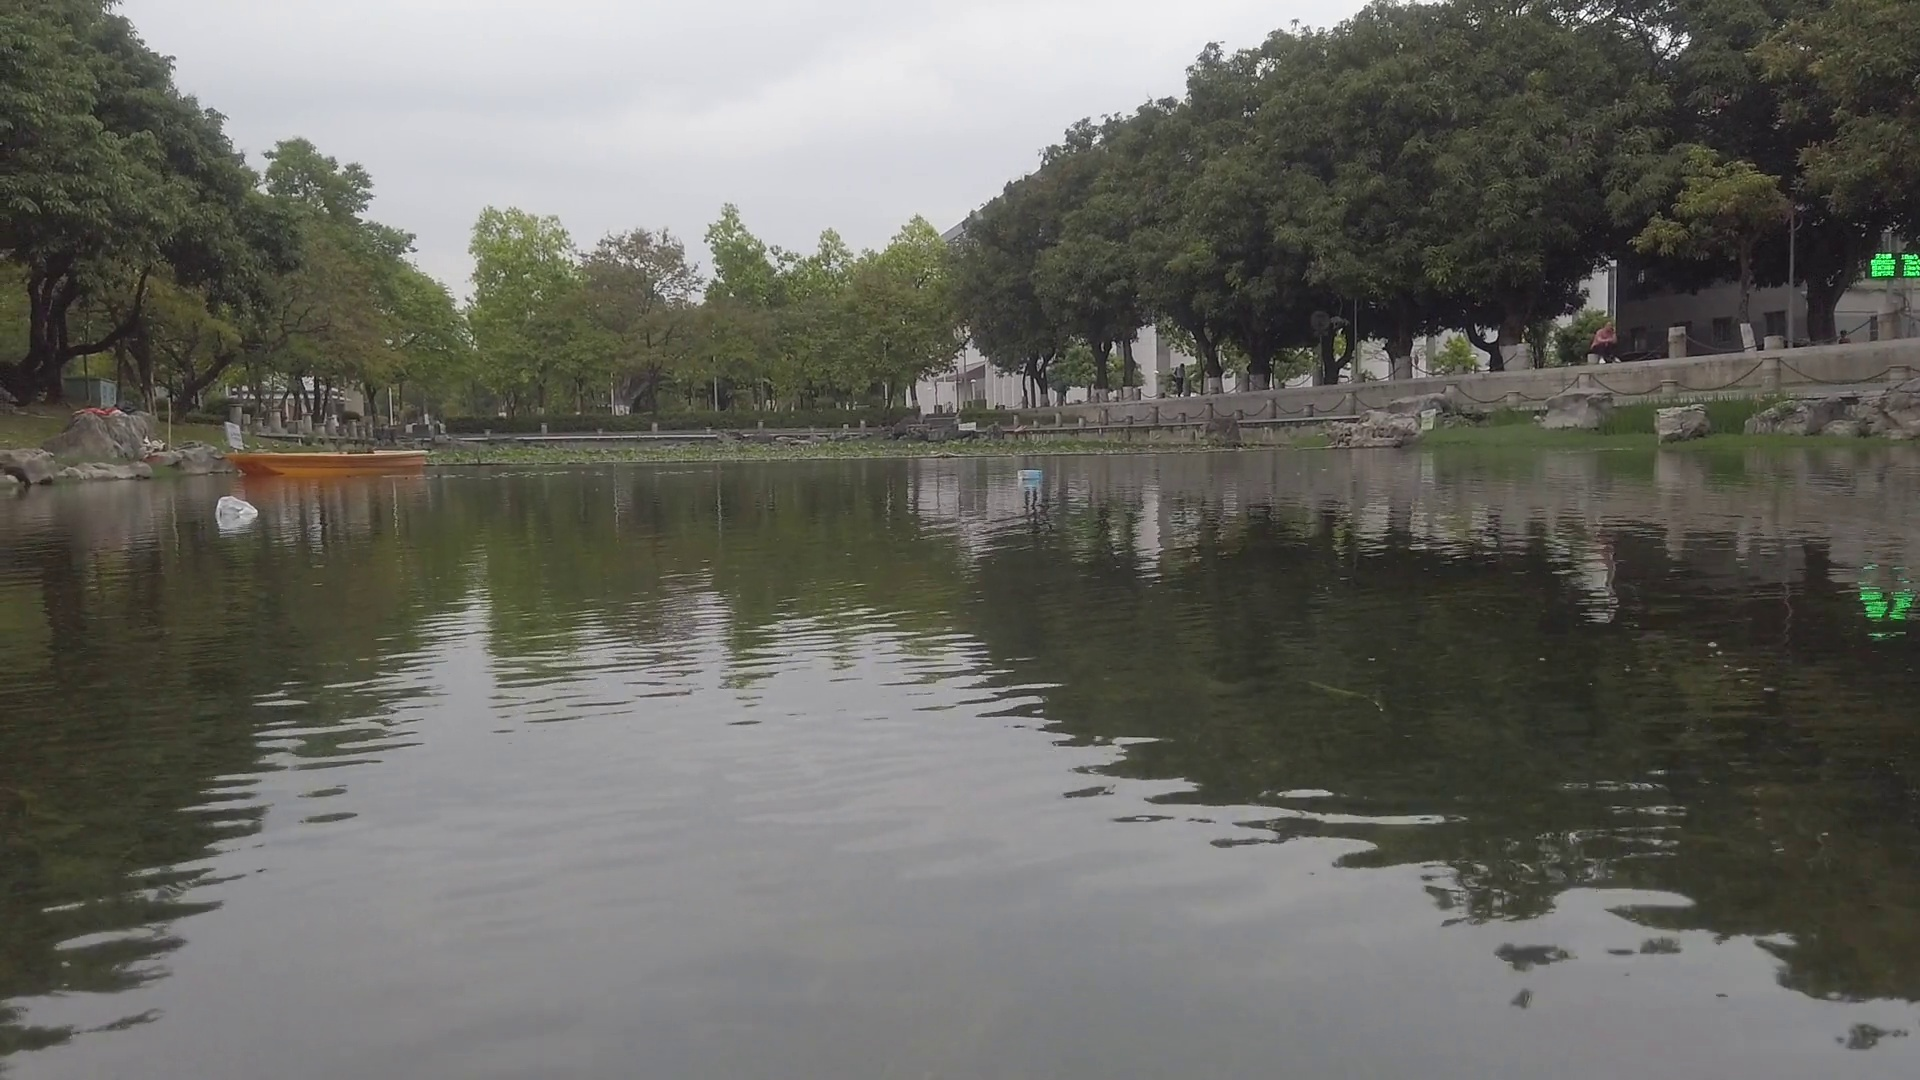carton: (1017, 469, 1042, 480)
plastic: (218, 496, 261, 526)
